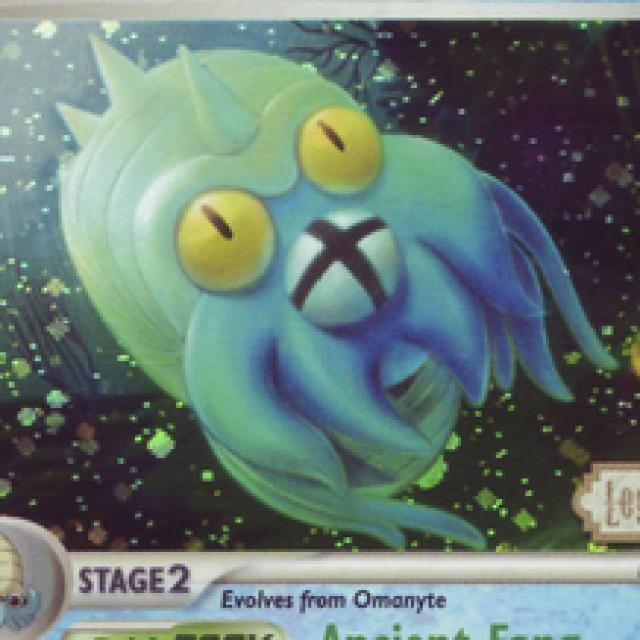Omastar: (51, 34, 495, 499)
